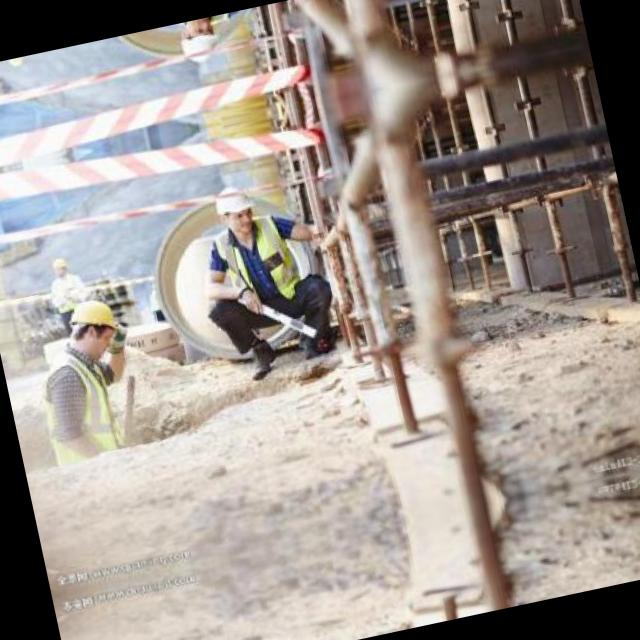helmet: (59, 290, 128, 364), (171, 15, 225, 70), (207, 179, 259, 236), (45, 250, 71, 277), (4, 56, 29, 74)
